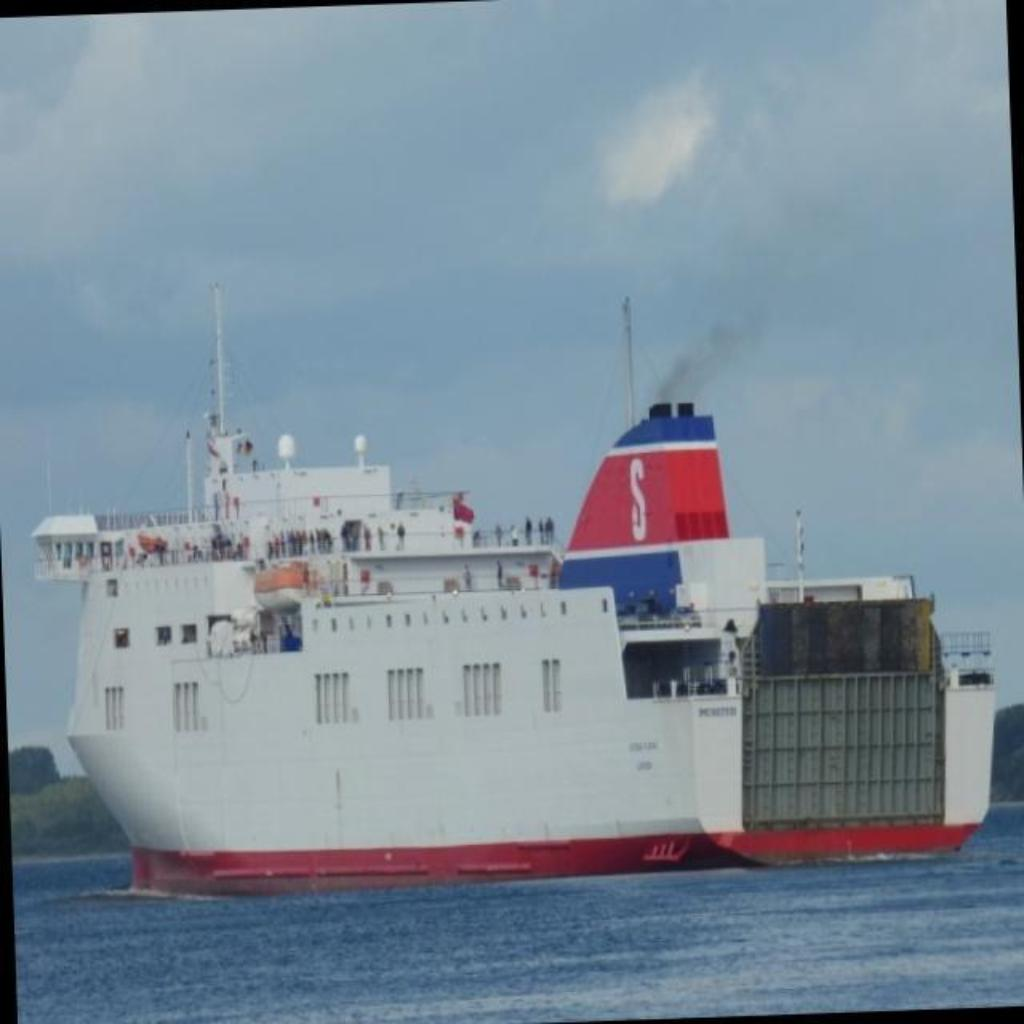PassengerShip: (26, 251, 996, 891)
